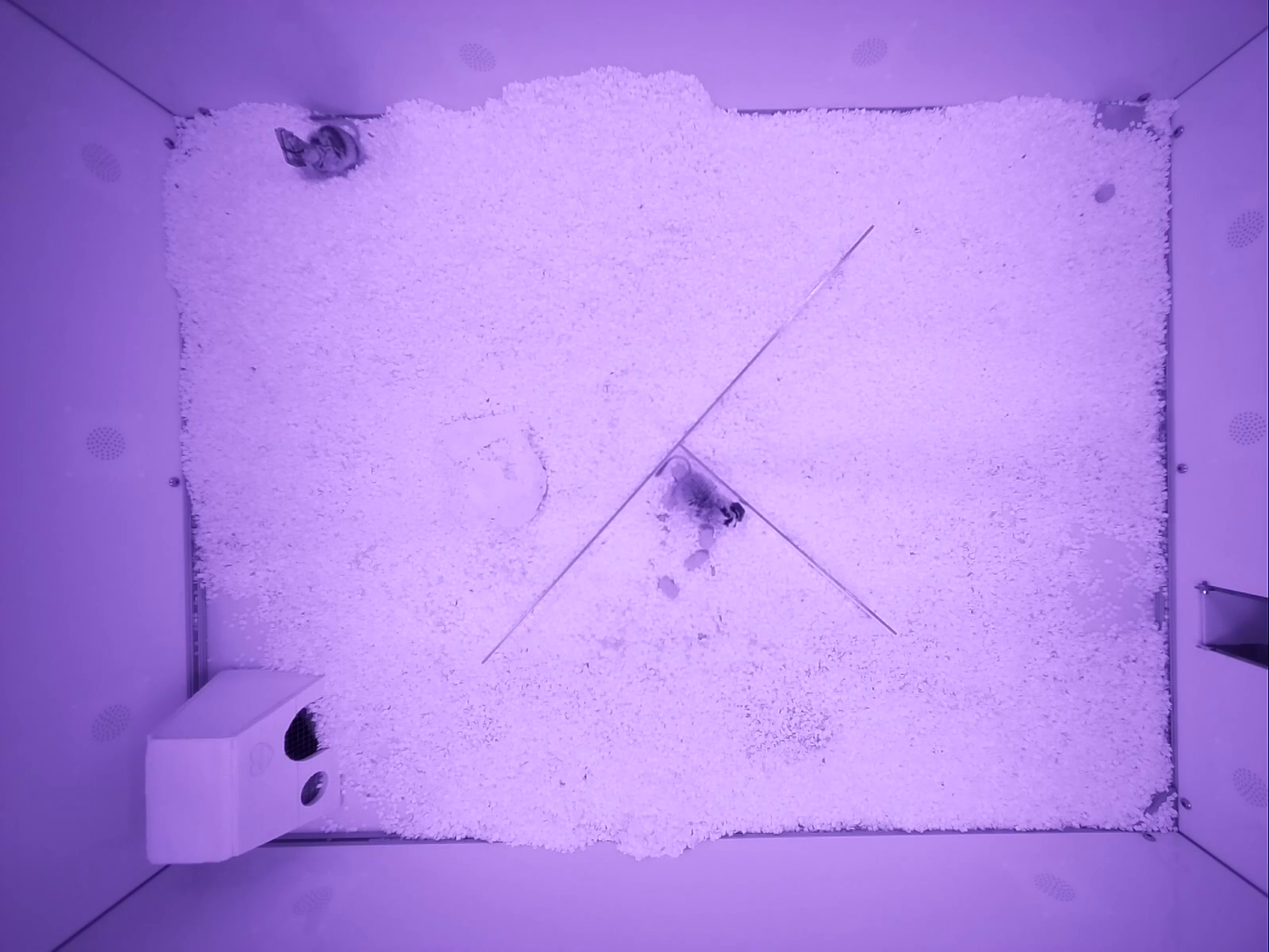adult_back: (654, 453, 746, 535), (274, 122, 364, 179)
